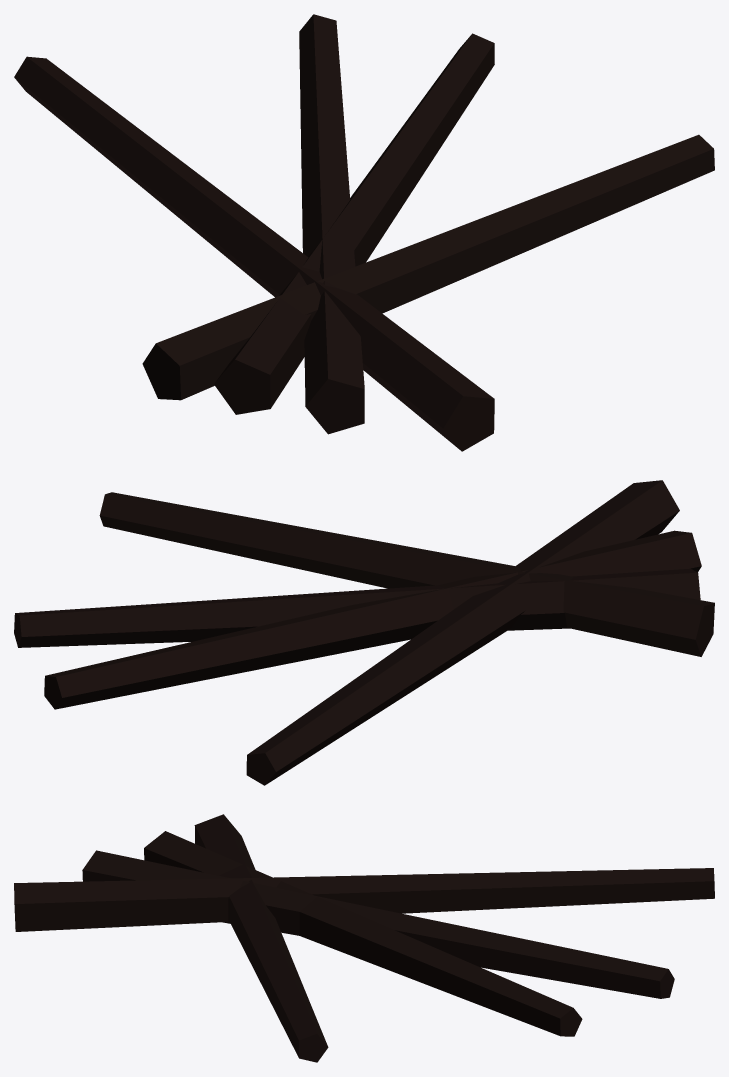
File: Wood_Pile_01.fbx
3 renders of one model, top to bottom at view 1: azimuth 30°, elevation 25°; view 2: azimuth 150°, elevation 25°; view 3: azimuth 270°, elevation 25°, orthographic. The views are drawn at different scales.
Visible parts, largest first — view 1: Wood_Pile_01_Mesh; view 2: Wood_Pile_01_Mesh; view 3: Wood_Pile_01_Mesh.
Boxes of the visible parts, left/top/right/bottom form: Wood_Pile_01_Mesh: left=14, top=14, right=714, bottom=451; Wood_Pile_01_Mesh: left=14, top=480, right=714, bottom=785; Wood_Pile_01_Mesh: left=14, top=814, right=714, bottom=1062.
Bounding box in the file's own units: 0.7496 × 0.0892 × 0.9347.
1 material, 1 textured.
